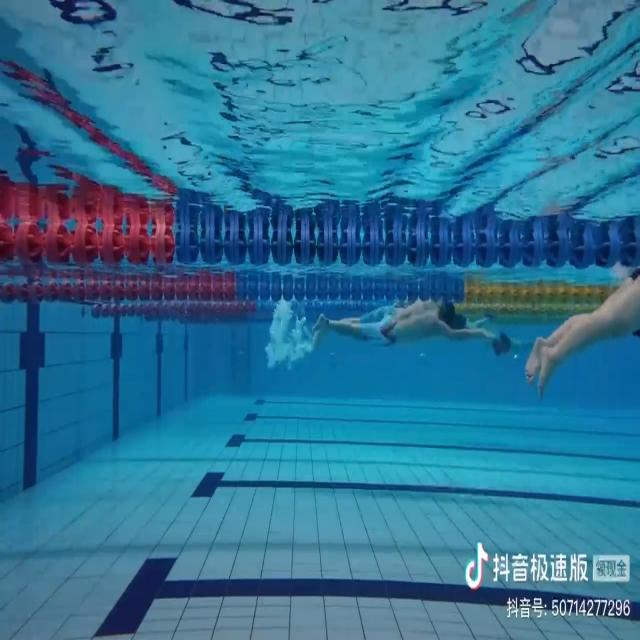Swimming: (526, 270, 640, 395), (312, 300, 500, 354)
